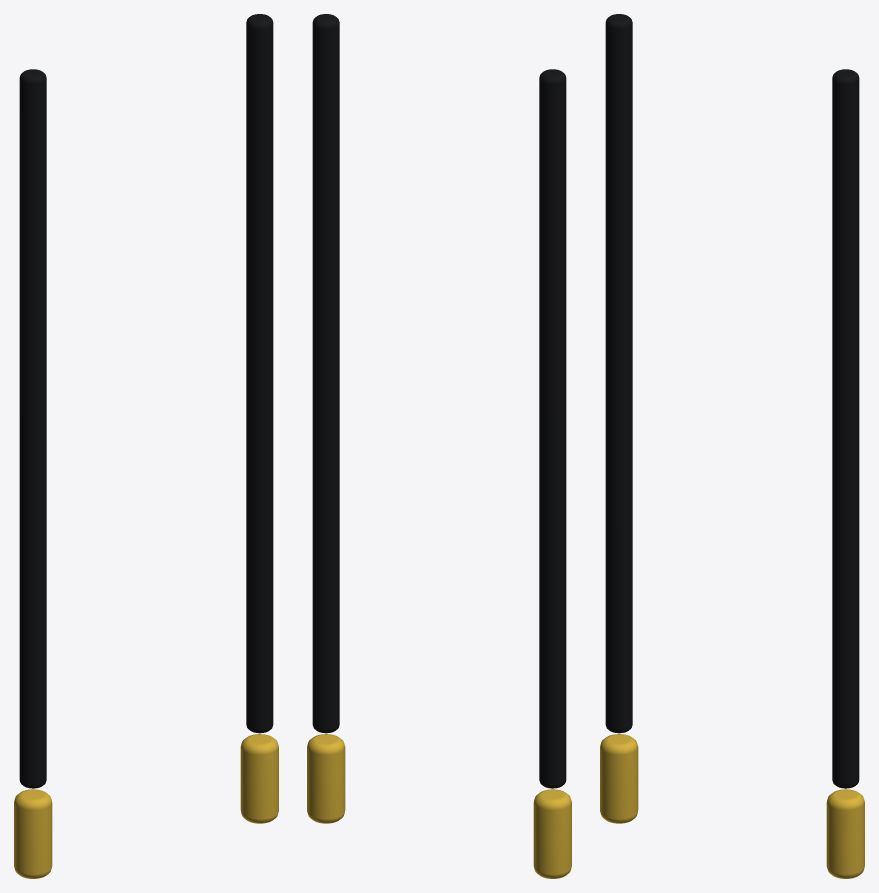
The picture shows the model from 3 angles, left to right: view 1: azimuth 30°, elevation 25°; view 2: azimuth 150°, elevation 25°; view 3: azimuth 330°, elevation 25°; orthographic projection.
Parts seen in each view (by area): view 1: part_079; view 2: part_079; view 3: part_079.
Boxes of the visible parts, x1,y1,x2,y2 form: part_079: (14,14,278,878); part_079: (307,14,571,878); part_079: (600,14,864,878).
Bounding box in the file's own units: 0.275 × 0.81 × 0.035.
